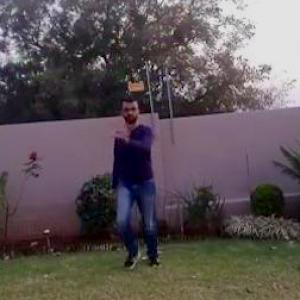follow_hand: (108, 119, 134, 145)
